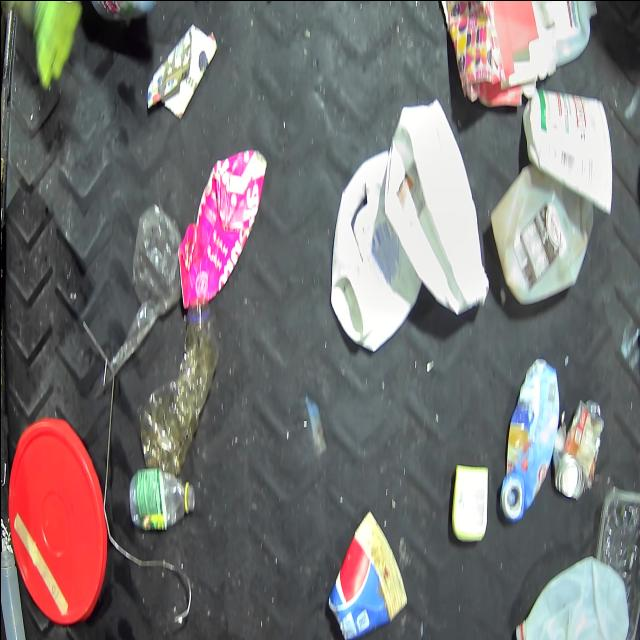can: (550, 397, 604, 502)
milk_jug: (384, 99, 487, 313), (330, 148, 420, 349), (487, 164, 590, 304), (516, 554, 630, 640)
non_white_jug: (177, 146, 266, 308)
plastic_bottle: (128, 464, 196, 530)
